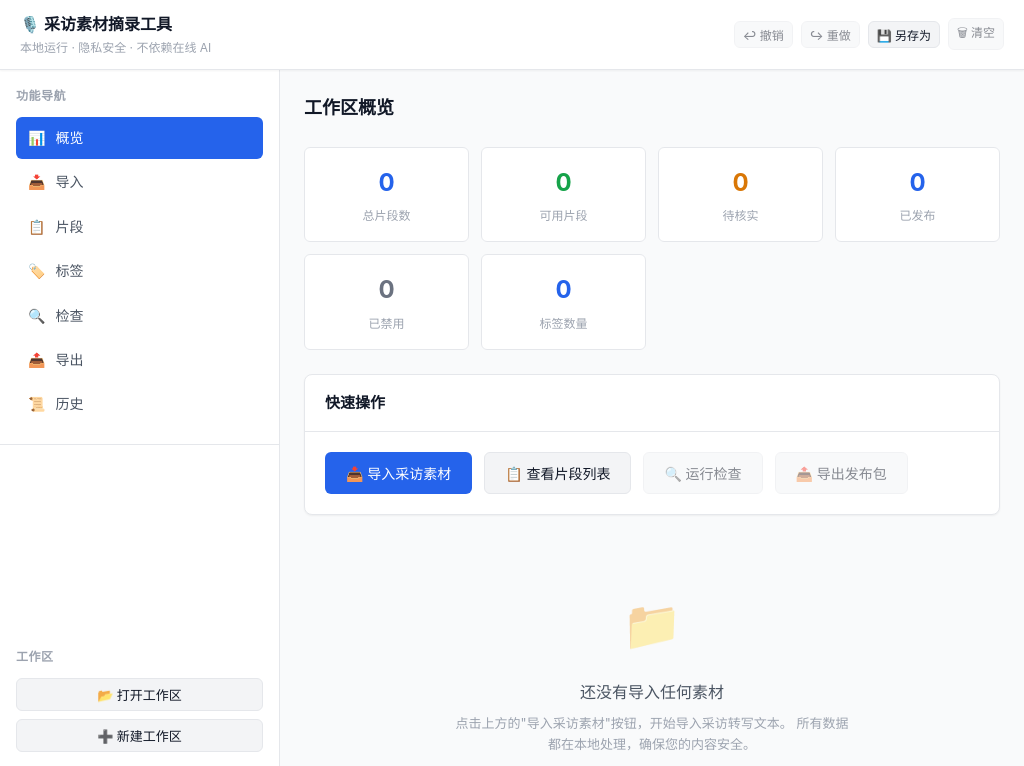
Test: 未保存改动确认弹窗 - 组件渲染验证 › 3. 选择"保留当前"：关闭弹窗，保留未保存状态
The image size is (1024, 766).
Step 1. Click the text "导入" → (70, 183), box x1=56 y1=171 x2=84 y2=194
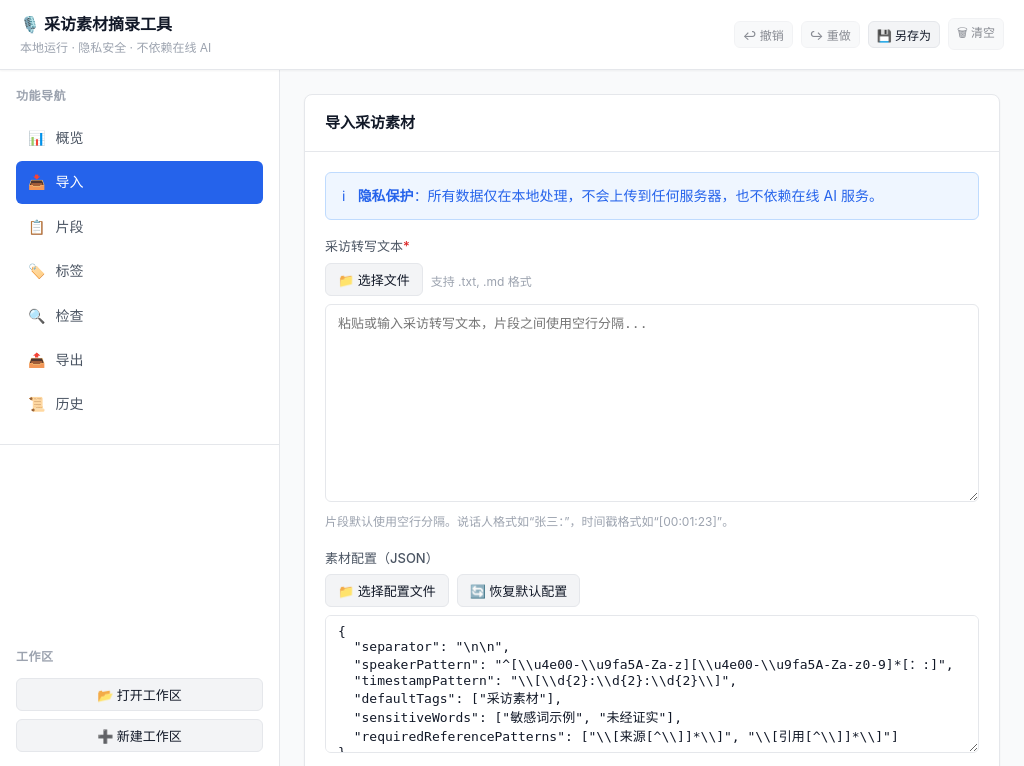
Step 2. Type "张三：今天我们来谈谈这个项目。 李四：好的，这个项目非常重要。 王五：我认为我们需要更多时间。 " into the text box with placeholder "粘贴或输入采访转写文本，片段之间使用空行分隔..." → (652, 403), box x1=325 y1=304 x2=979 y2=502
(page scrolled)
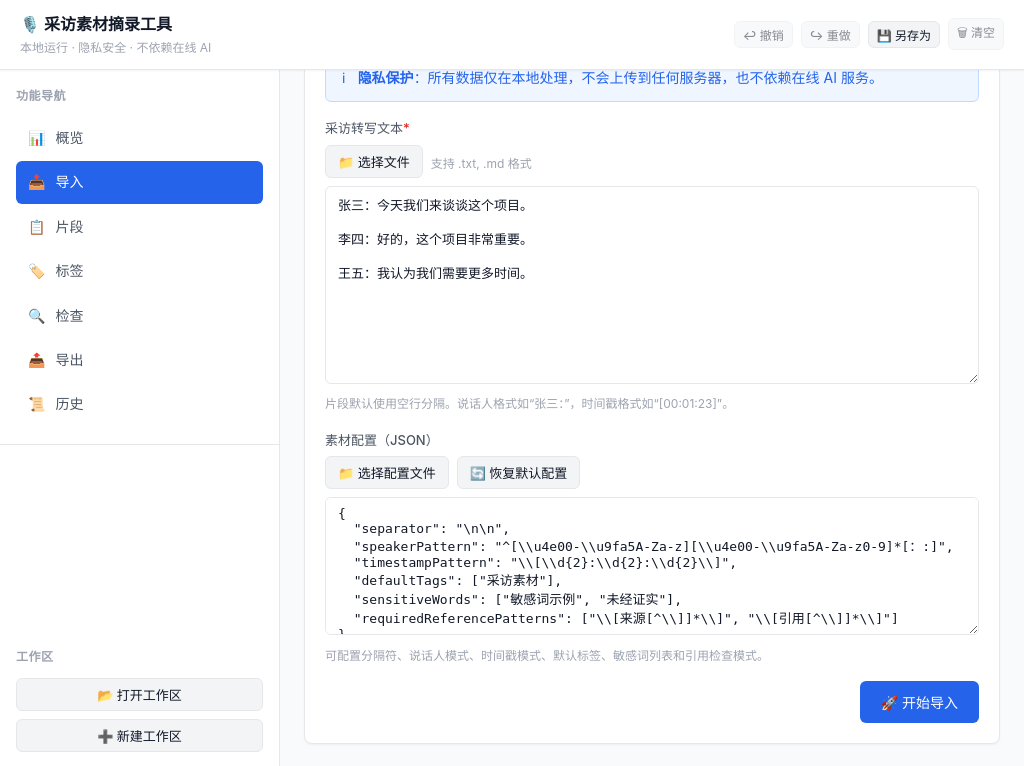
Step 3. Click the button "🚀 开始导入" → (919, 702), box x1=860 y1=681 x2=979 y2=723
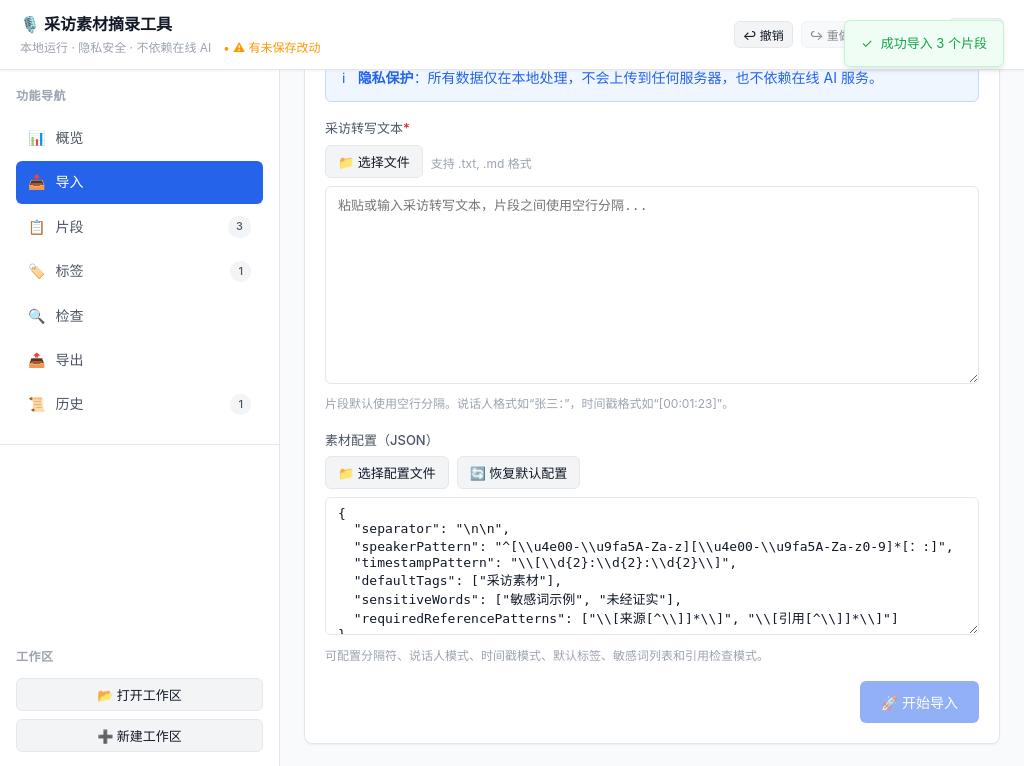
Now the text "成功导入 3 个片段" is shown, box x1=881 y1=33 x2=987 y2=54
Now the text "• ⚠ 有未保存改动" is shown, box x1=223 y1=40 x2=320 y2=55
Step 4. Click the button "📂 打开工作区" → (140, 694), box x1=16 y1=678 x2=263 y2=711
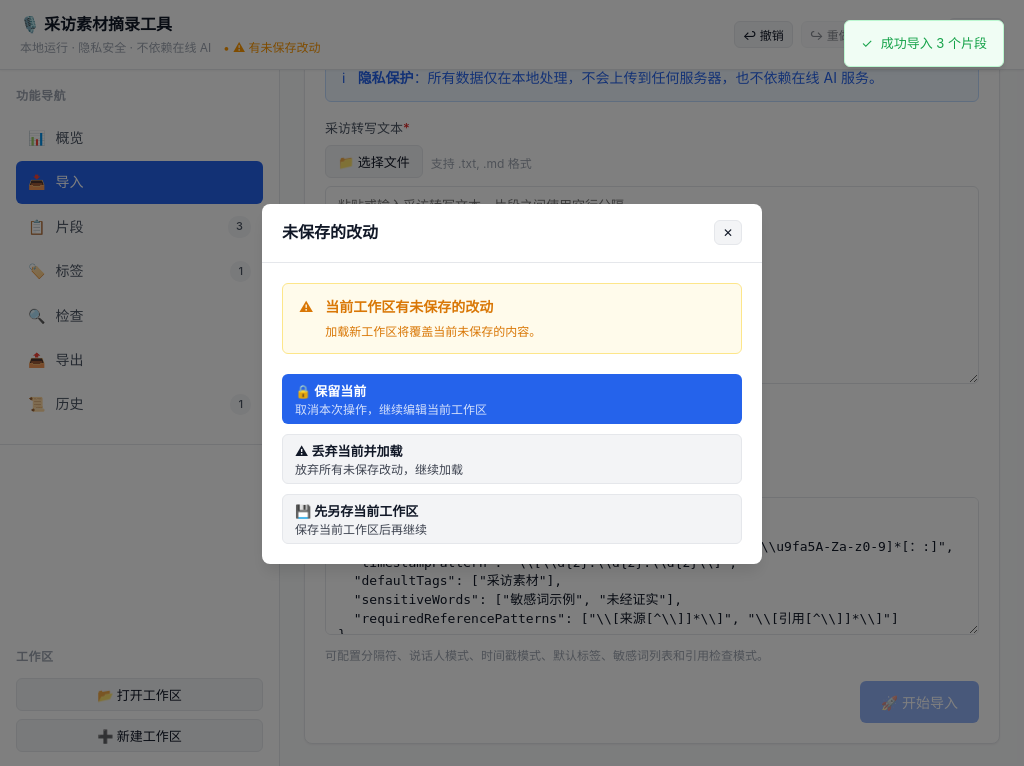
Now the element with test id "unsaved-changes-modal" is shown, box x1=262 y1=204 x2=762 y2=564
Step 5. Click the button with test id "unsaved-changes-keep-btn" → (331, 391), box x1=282 y1=374 x2=742 y2=424
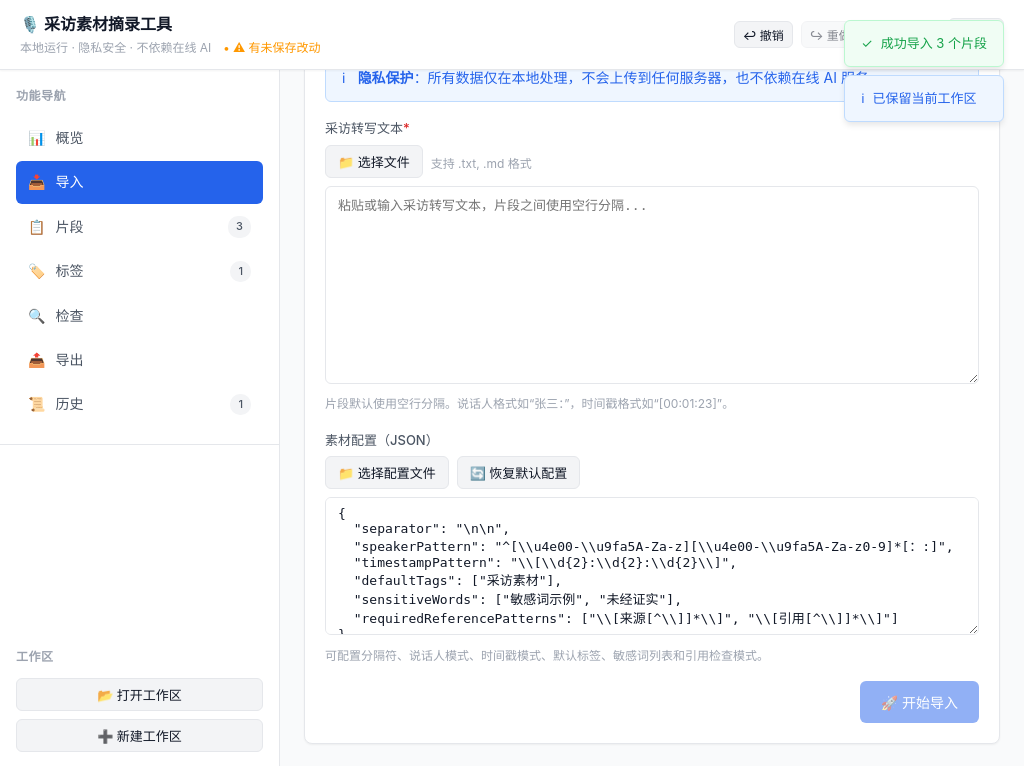
Now the text "• ⚠ 有未保存改动" is shown, box x1=223 y1=40 x2=320 y2=55
Now the element with test id "unsaved-changes-modal" is gone
Now the text "已保留当前工作区" is shown, box x1=872 y1=88 x2=976 y2=109
